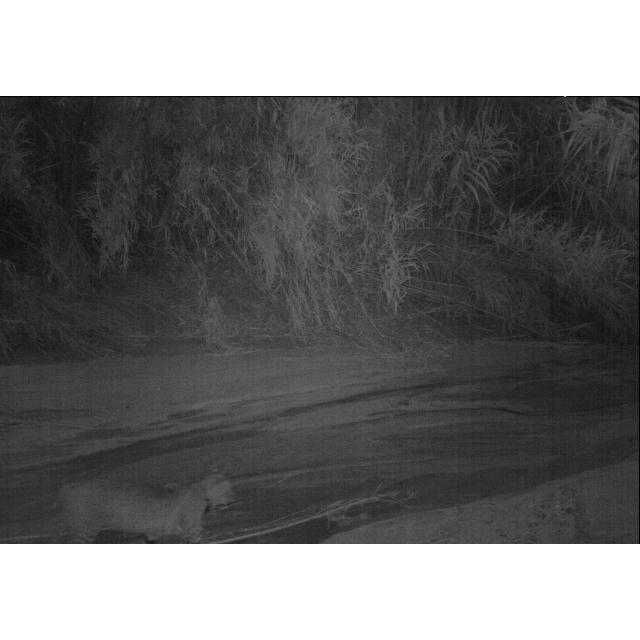animals: (44, 460, 242, 544)
